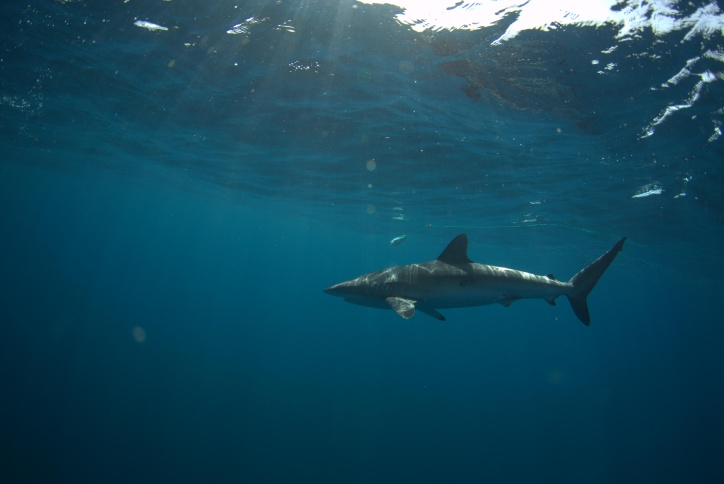Sedoso: (315, 217, 635, 334)
